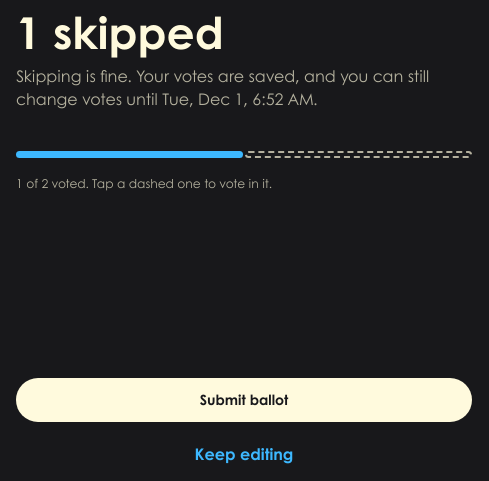
it: SubmitBallotPage › a failed save stays on the page with an error line and Try again
The width and height of the screenshot is (489, 481).
Step 1. Click the button "Submit ballot" → (244, 400), box [16,378,472,422]
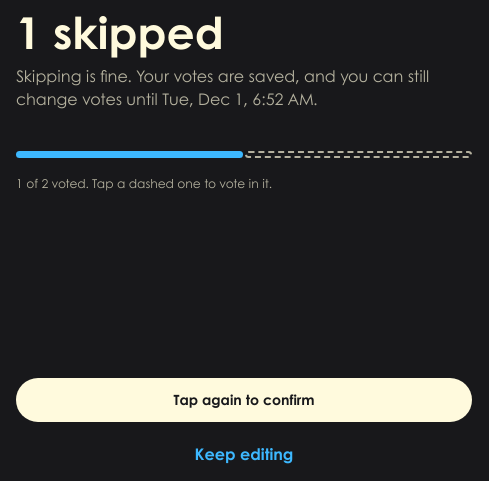
Step 2. Click the button "Tap again to confirm" → (244, 400), box [16,378,472,422]
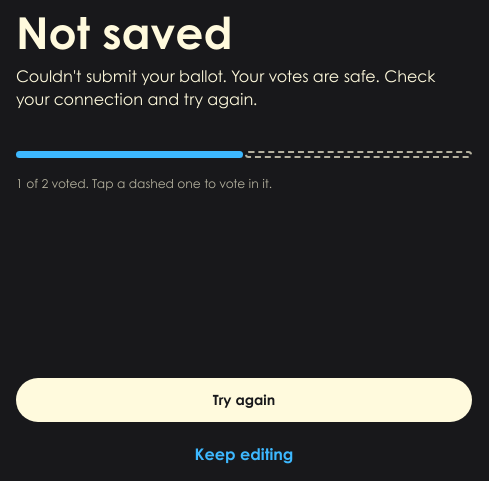
Result: the message shows "Your votes are safe" at [16,70,435,108]
Result: the button "Try again" is shown
Step 3. Click the button "Try again" → (244, 400), box [16,378,472,422]
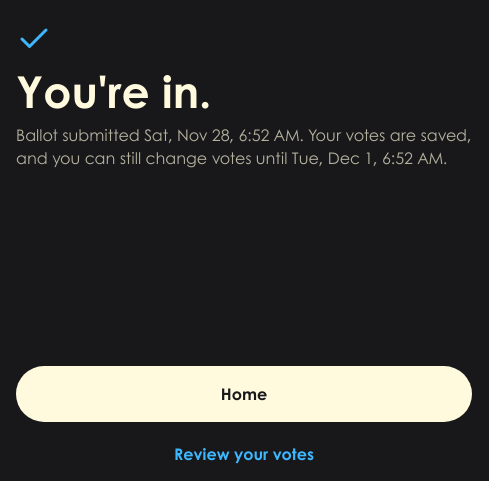
Result: the message shows "Ballot submitted" at [16,129,144,144]
